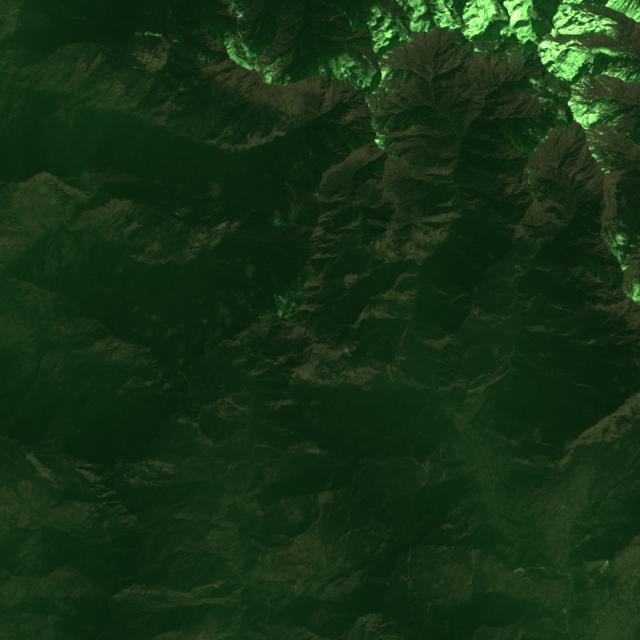landslides: (14, 7, 50, 30), (513, 567, 558, 578), (285, 92, 296, 128), (573, 535, 590, 551), (512, 53, 524, 72), (387, 365, 398, 385), (598, 560, 610, 575), (526, 168, 544, 177), (39, 172, 54, 182)
